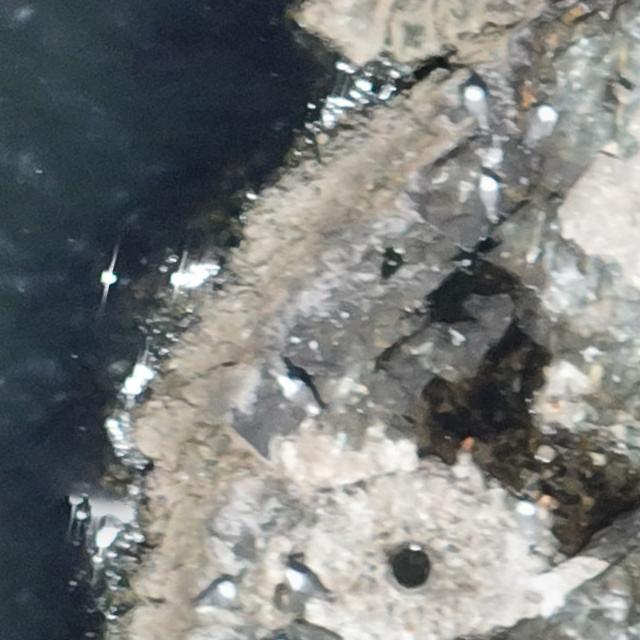umineko: (278, 374, 318, 414), (286, 572, 334, 604), (463, 84, 493, 133), (516, 500, 542, 555), (531, 110, 556, 142), (202, 583, 233, 605), (481, 179, 498, 215)
